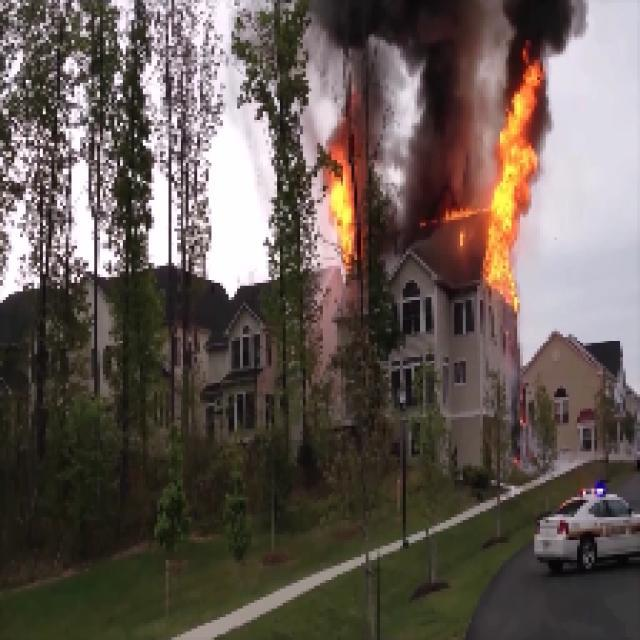Fire: (495, 88, 530, 292), (324, 153, 360, 250)
Smoke: (394, 0, 482, 217), (503, 0, 582, 56)
